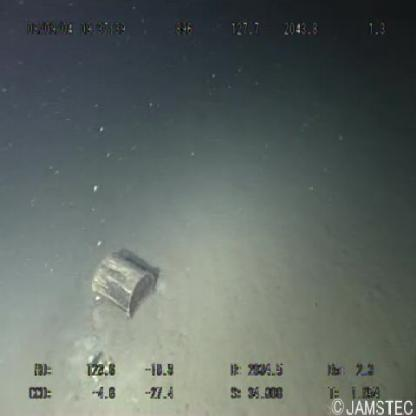Rác: (92, 248, 162, 318)
